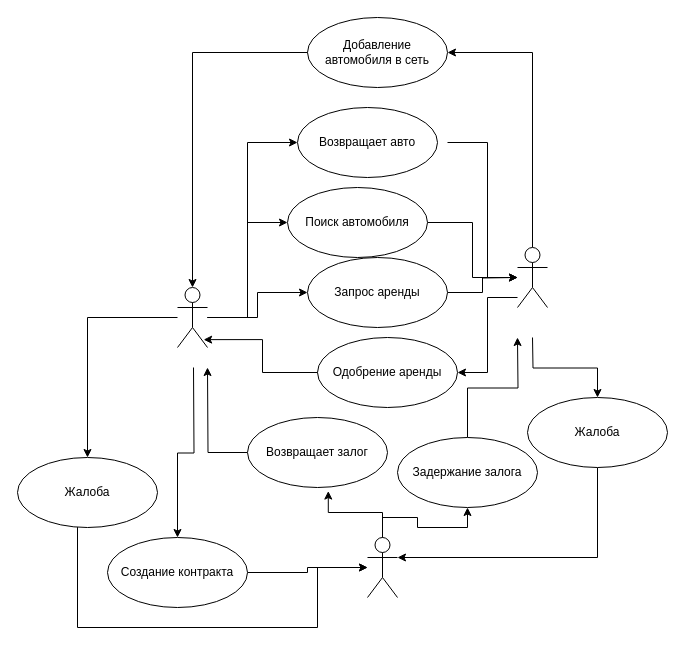
Some shapes in this 685 by 653 pixel diagram are drawn without their labels. The shapes that lost their labels are listed below. From the top down, each one's box as (x1, y1, x2, y2) in pixels, then its label:
(516, 246, 548, 308): Компания
(176, 286, 208, 348): Пользователь
(366, 536, 398, 598): Посредник
